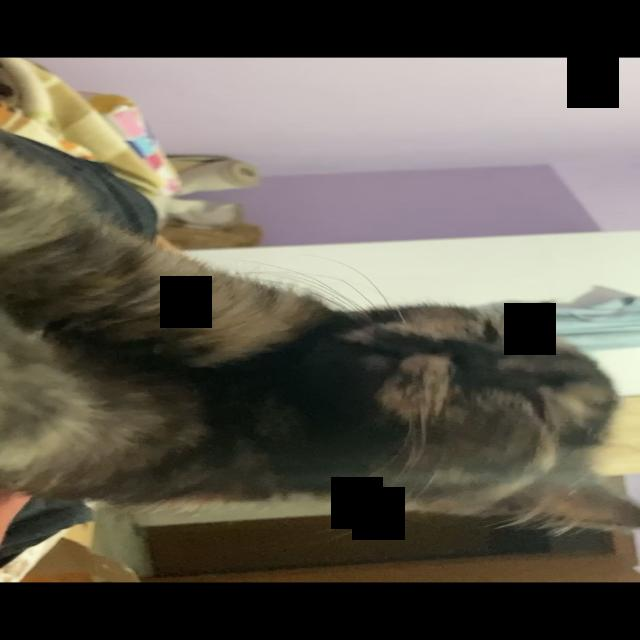authorized: (1, 127, 637, 538)
